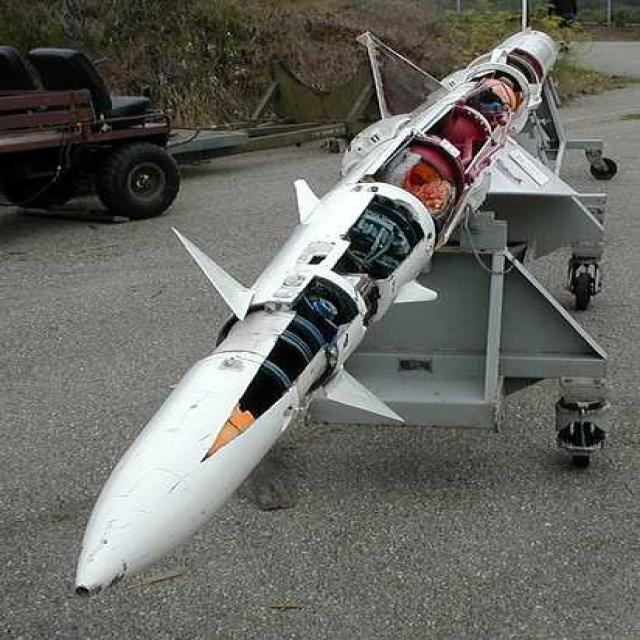missile: (75, 24, 555, 596)
